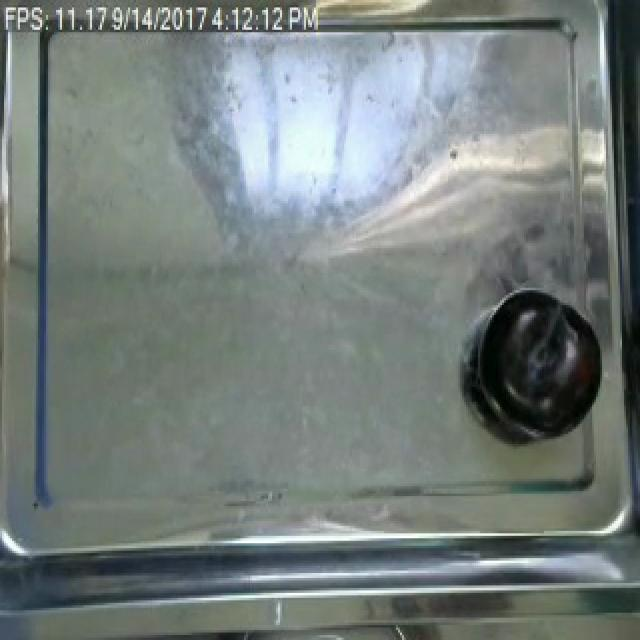Fruit: (472, 285, 598, 432)
